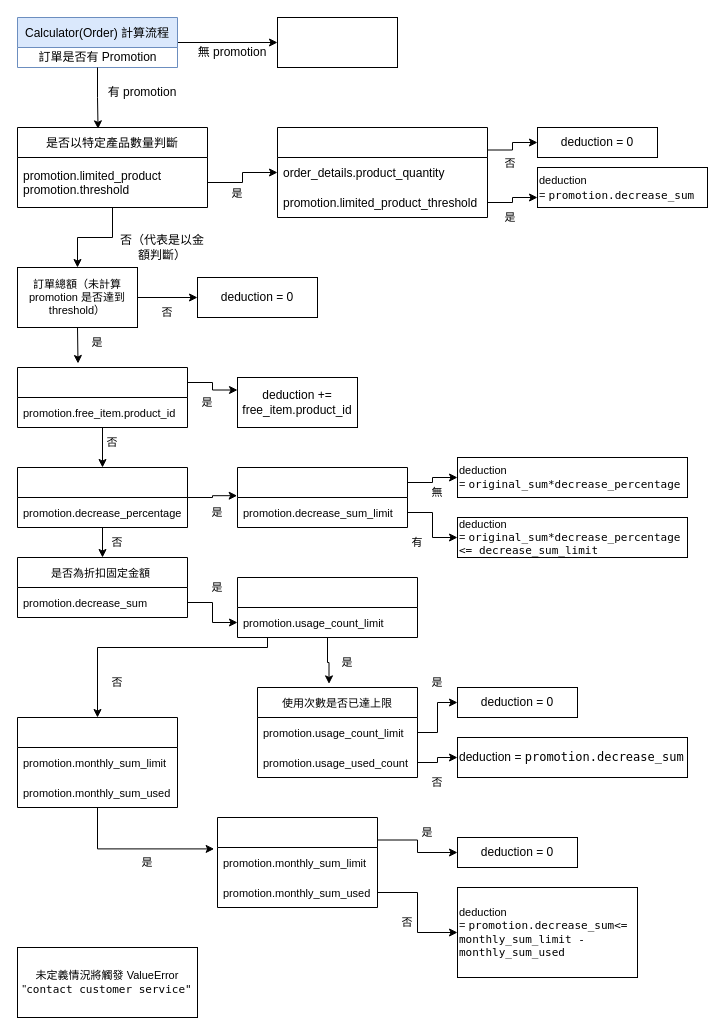
Some shapes in this 725 by 1035 pixel diagram are drawn without their labels. Here are the shapes that lost their labels. From the top down, the box of each, then its label:
(276, 16, 398, 68): deduction = 0 計算訂單總額
(276, 126, 488, 218): 特定產品數量是否達標
(16, 366, 188, 428): 是否為免費贈品
(16, 466, 188, 528): 是否為按百分比打折
(236, 466, 408, 528): 有無優惠上限
(236, 576, 418, 638): 是否為全站折扣次數限制
(16, 716, 178, 808): 是否為每月折扣金額限制
(216, 816, 378, 908): 使用金額是否已達上限
